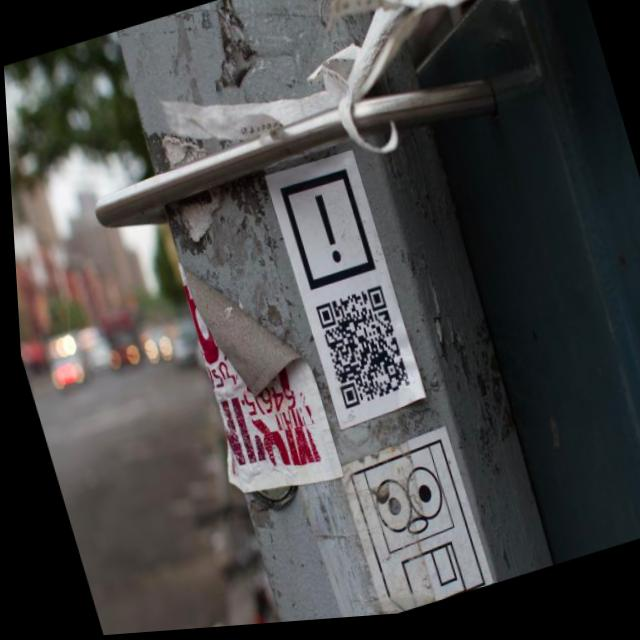qrcode: (312, 291, 407, 415)
